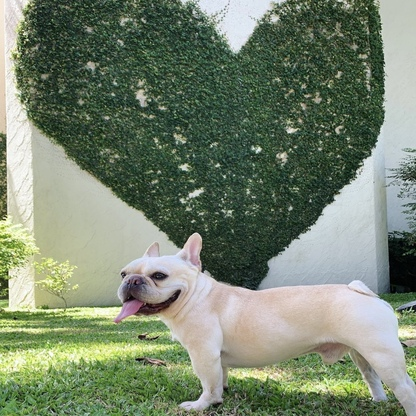bulldog: (115, 232, 414, 416)
